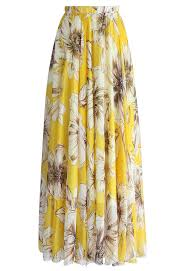C_skirt: (29, 3, 152, 267)
